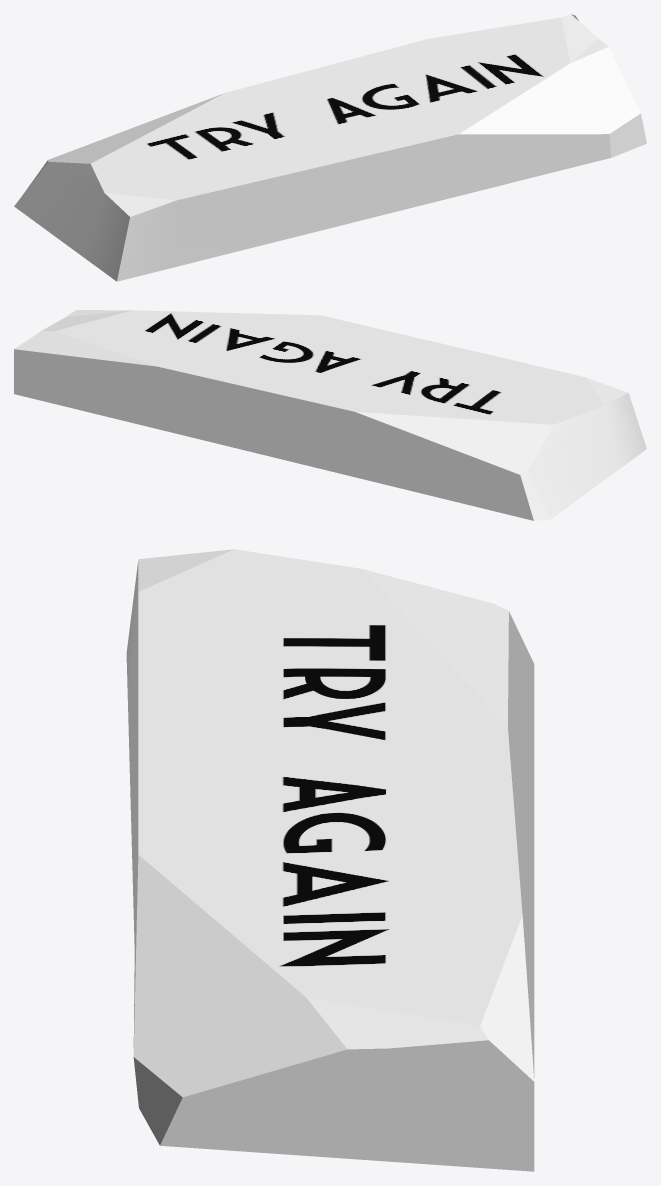
The model's file is tryAgain.fbx.
3 renders of one model, top to bottom at view 1: azimuth 30°, elevation 25°; view 2: azimuth 150°, elevation 25°; view 3: azimuth 270°, elevation 25°, orthographic. The views are drawn at different scales.
Parts seen in each view (by area): view 1: pCube11; view 2: pCube11; view 3: pCube11.
Part boxes in pixels (<box>): pCube11: <box>14,14,646,281</box>; pCube11: <box>14,310,646,520</box>; pCube11: <box>126,549,534,1171</box>.
Bounding box in the file's own units: 4.94 × 0.5298 × 1.64.
